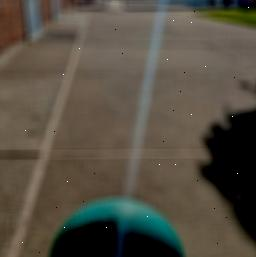algae: (44, 194, 190, 257)
